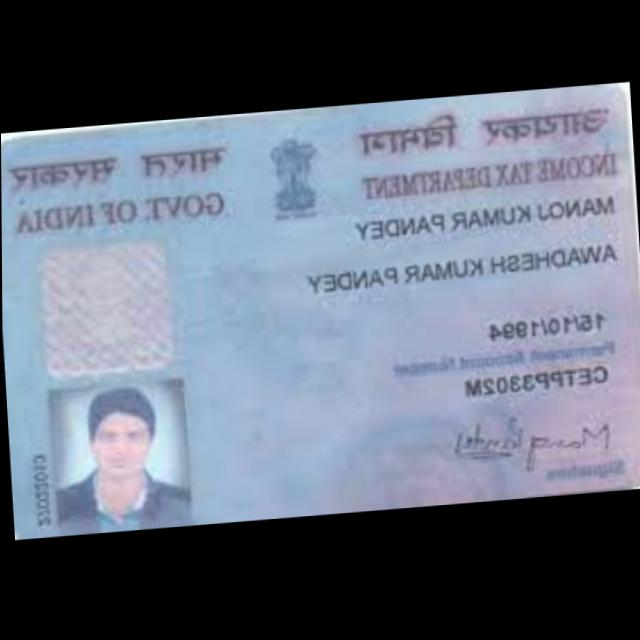pan: (1, 85, 640, 540)
